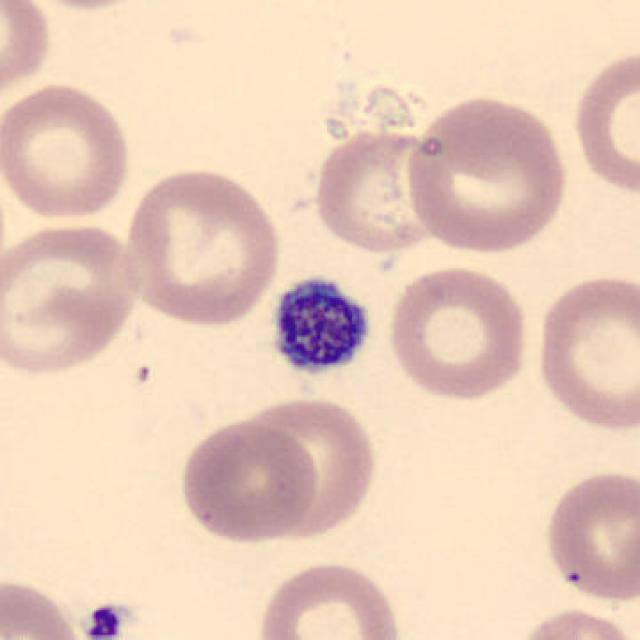Platelets: (263, 272, 377, 384), (80, 599, 130, 640)
RBC: (402, 92, 574, 257), (119, 162, 286, 328), (0, 217, 146, 381), (235, 391, 382, 545), (384, 261, 533, 404), (0, 79, 135, 224), (174, 416, 320, 547), (309, 120, 446, 257), (530, 266, 638, 436), (538, 463, 640, 606), (253, 557, 407, 640), (567, 42, 638, 201), (0, 0, 55, 106), (0, 573, 87, 640), (510, 604, 638, 640), (12, 0, 159, 12)
